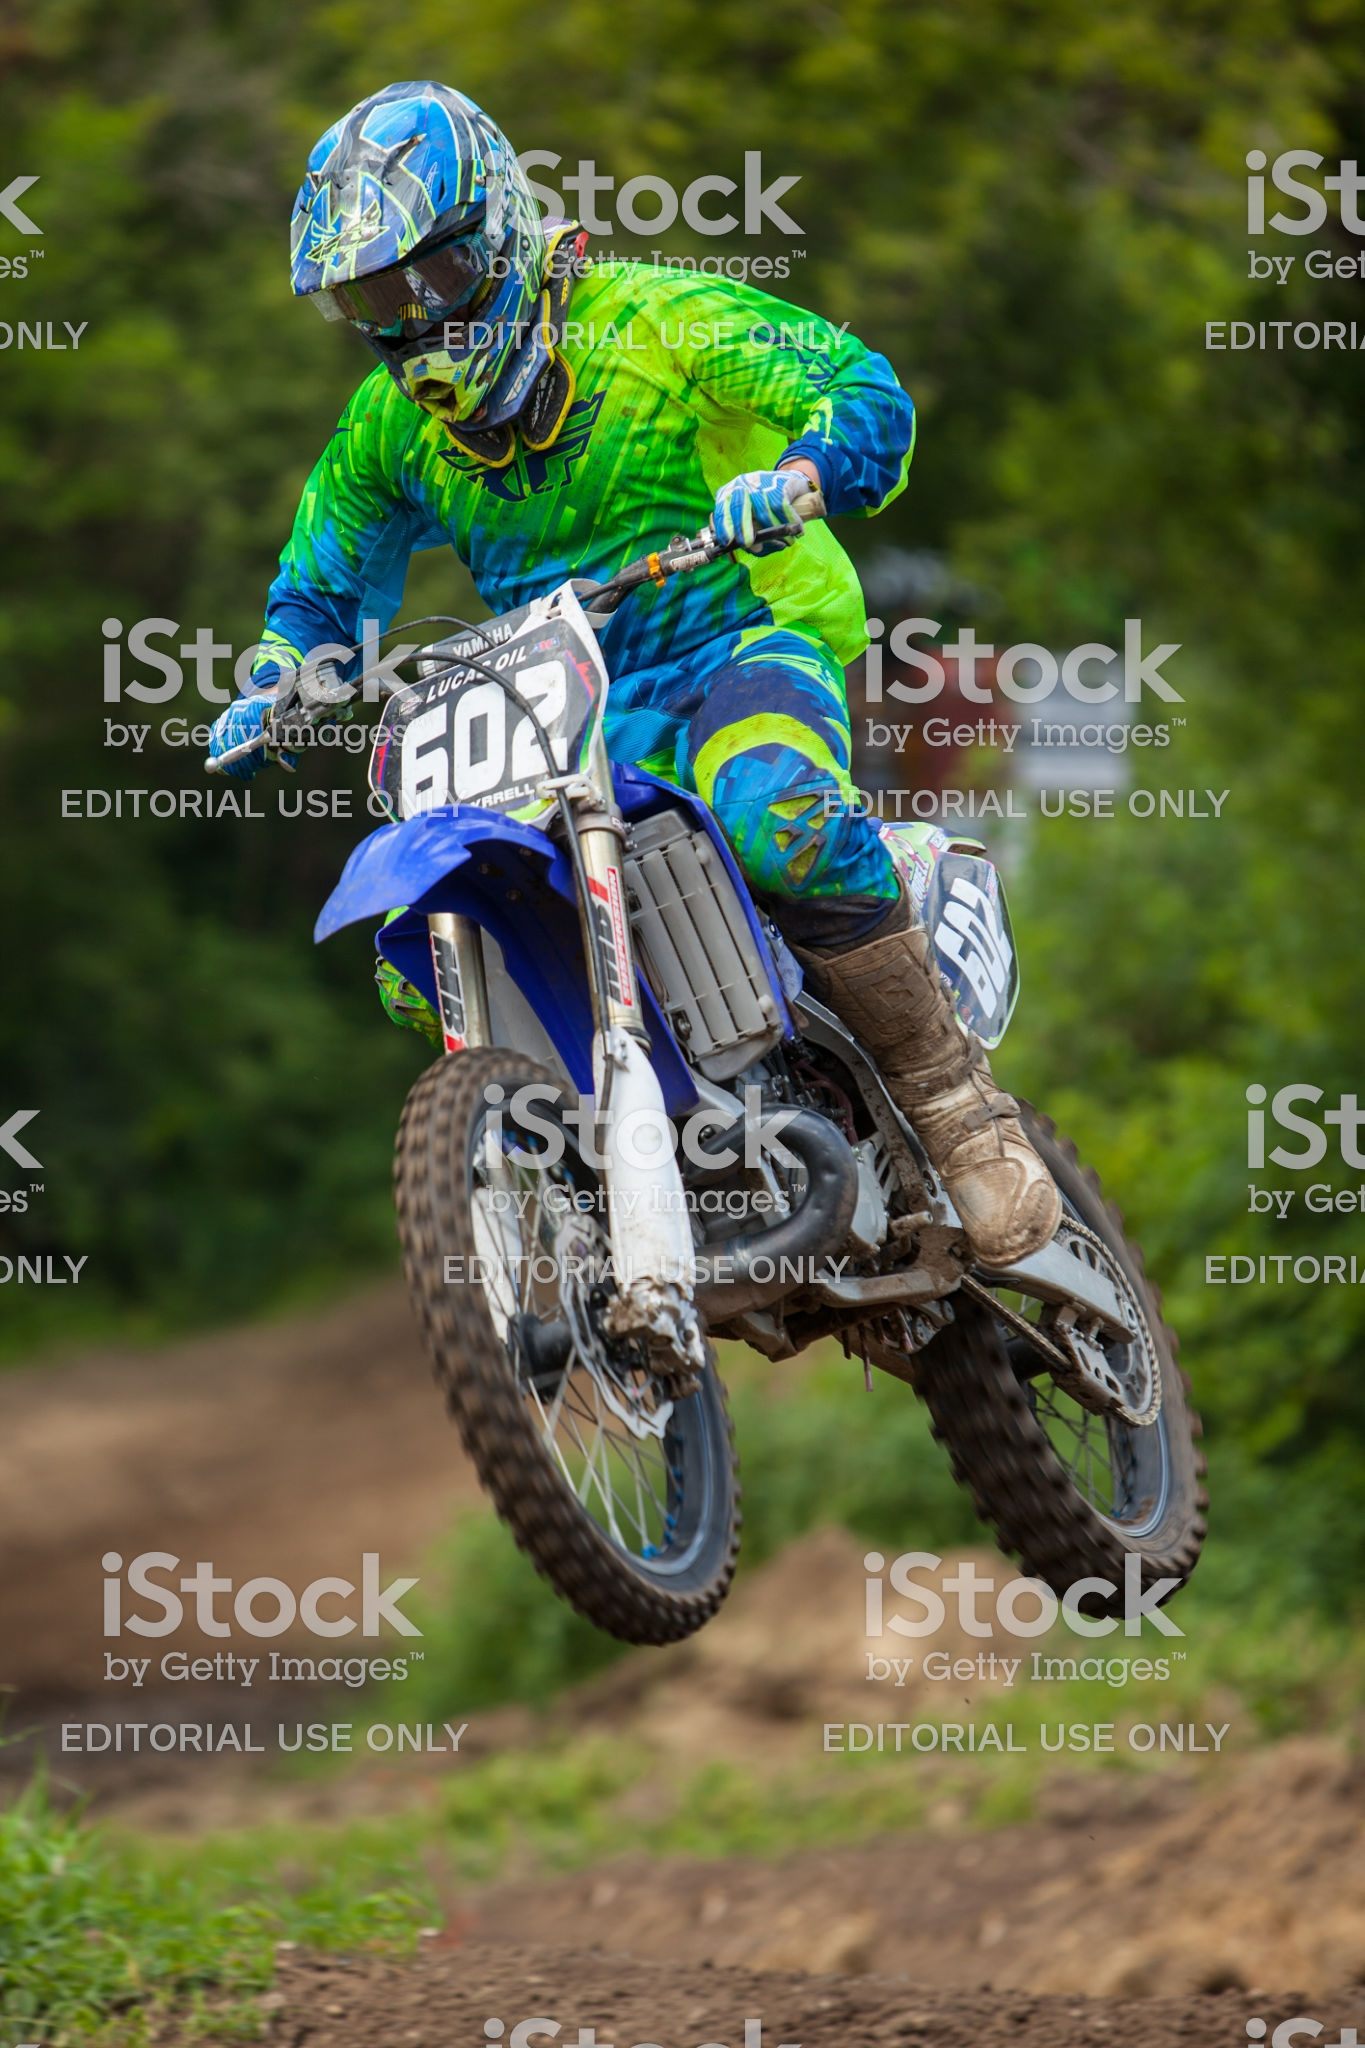helmet: (270, 91, 551, 365)
